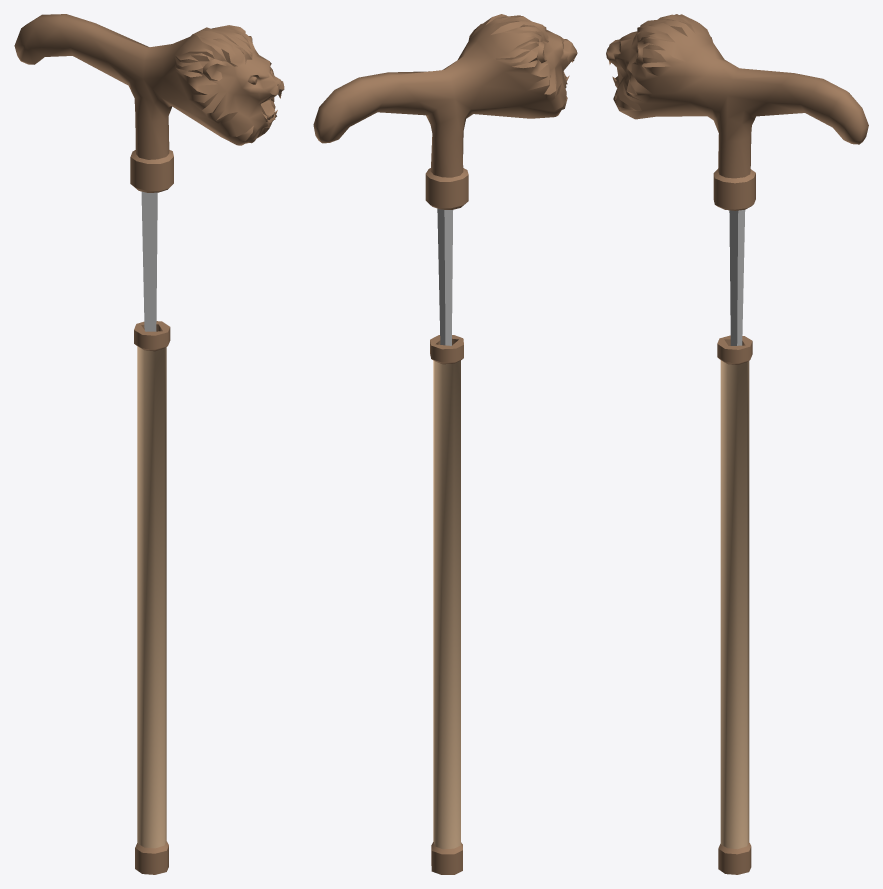
The model's file is 13-Hidden.glb.
3 views of the same model, side by side, from view 1: azimuth 90°, elevation 25°; view 2: azimuth 150°, elevation 25°; view 3: azimuth 270°, elevation 25° (orthographic). The views are drawn at different scales.
Parts seen in each view (by area): view 1: 1, 2; view 2: 1, 2; view 3: 1, 2.
Boxes of the visible parts, box(x1,y1,x2,y2) form: 1: box(14, 14, 284, 331); 2: box(134, 321, 170, 874); 1: box(313, 14, 577, 345); 2: box(430, 335, 463, 874); 1: box(606, 14, 868, 345); 2: box(717, 335, 752, 874).
Bounding box in the file's own units: 0.2573 × 1.37 × 0.3917.
1 material, 1 textured.
